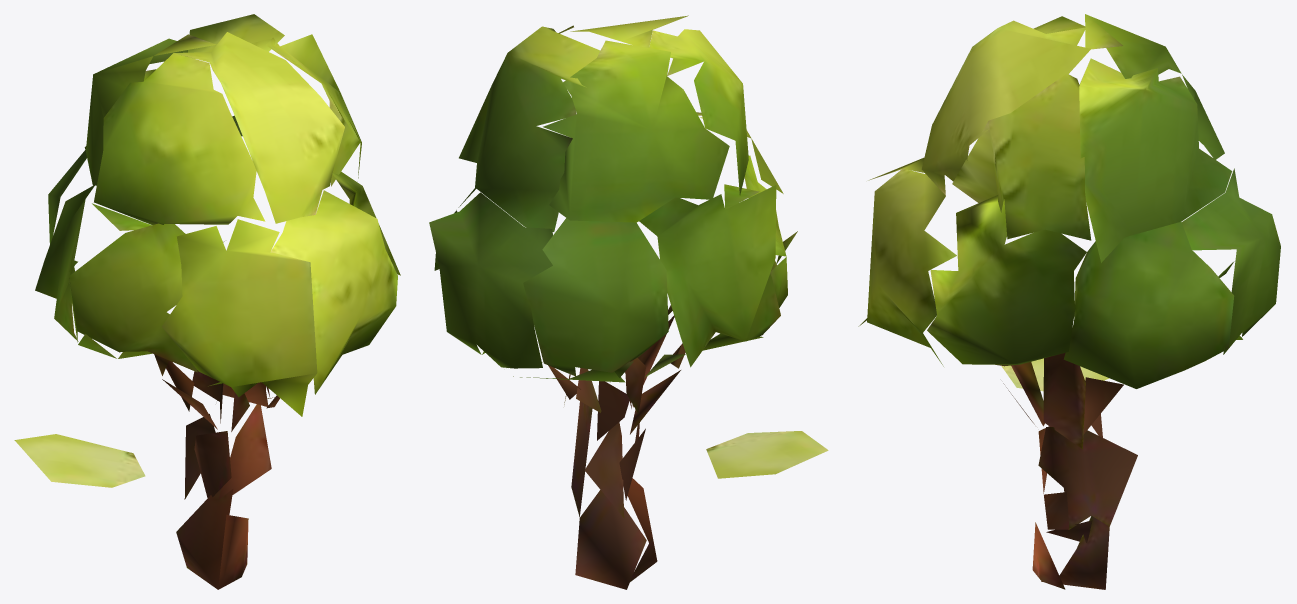
File: tree_big_far.glb
3 renders of one model, left to right at view 1: azimuth 30°, elevation 25°; view 2: azimuth 150°, elevation 25°; view 3: azimuth 270°, elevation 25°, orthographic. The views are drawn at different scales.
Visible parts, largest first — view 1: tripo_node_01a21d09-1101-755e-8cb9-33e6197f4d57; view 2: tripo_node_01a21d09-1101-755e-8cb9-33e6197f4d57; view 3: tripo_node_01a21d09-1101-755e-8cb9-33e6197f4d57.
Part boxes in pixels (<box>): tripo_node_01a21d09-1101-755e-8cb9-33e6197f4d57: <box>14,14,400,589</box>; tripo_node_01a21d09-1101-755e-8cb9-33e6197f4d57: <box>429,15,828,589</box>; tripo_node_01a21d09-1101-755e-8cb9-33e6197f4d57: <box>858,14,1280,589</box>.
Size of the model in its own units: 4.91 by 7.66 by 5.42.
Materials: 1 (1 with a texture image).
